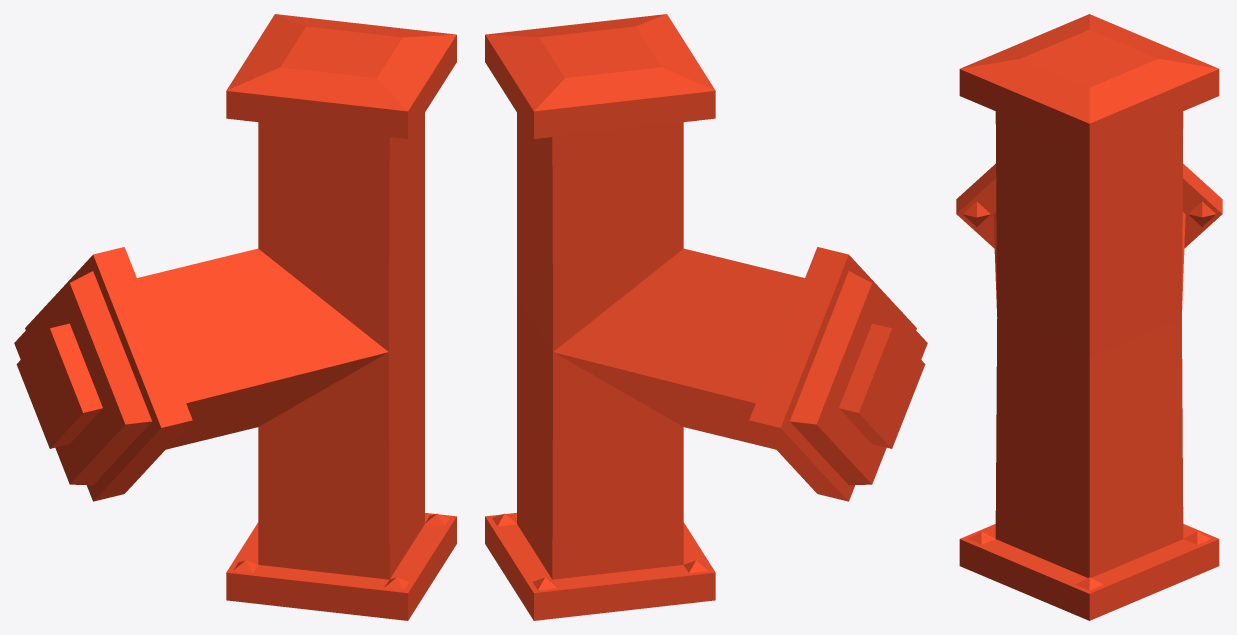
File: SM_Pipe_T_B_City.fbx
3 views of the same model, side by side, from view 1: azimuth 30°, elevation 25°; view 2: azimuth 150°, elevation 25°; view 3: azimuth 270°, elevation 25° (orthographic). The views are drawn at different scales.
Visible parts, largest first — view 1: SM_Pipe_T_B_City; view 2: SM_Pipe_T_B_City; view 3: SM_Pipe_T_B_City.
Boxes of the visible parts, <box> form: SM_Pipe_T_B_City: <box>14,14,456,620</box>; SM_Pipe_T_B_City: <box>485,14,927,620</box>; SM_Pipe_T_B_City: <box>956,14,1222,620</box>.
Size of the model in its own units: 0.1638 by 0.204 by 0.0951.
